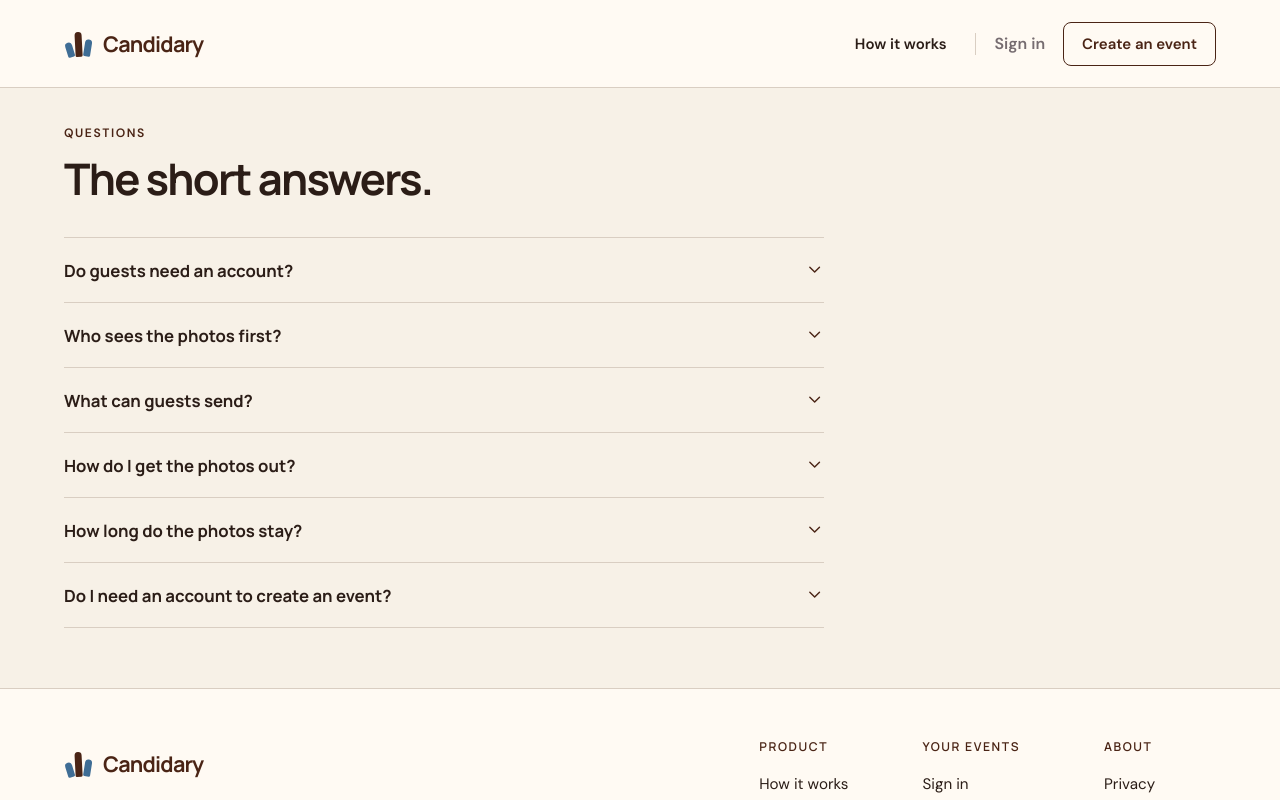
public Candidary experience › answers the common questions without opening any of them first
(page scrolled)
Click the heading "What can guests send?" at (158, 400), box [64,389,824,412]
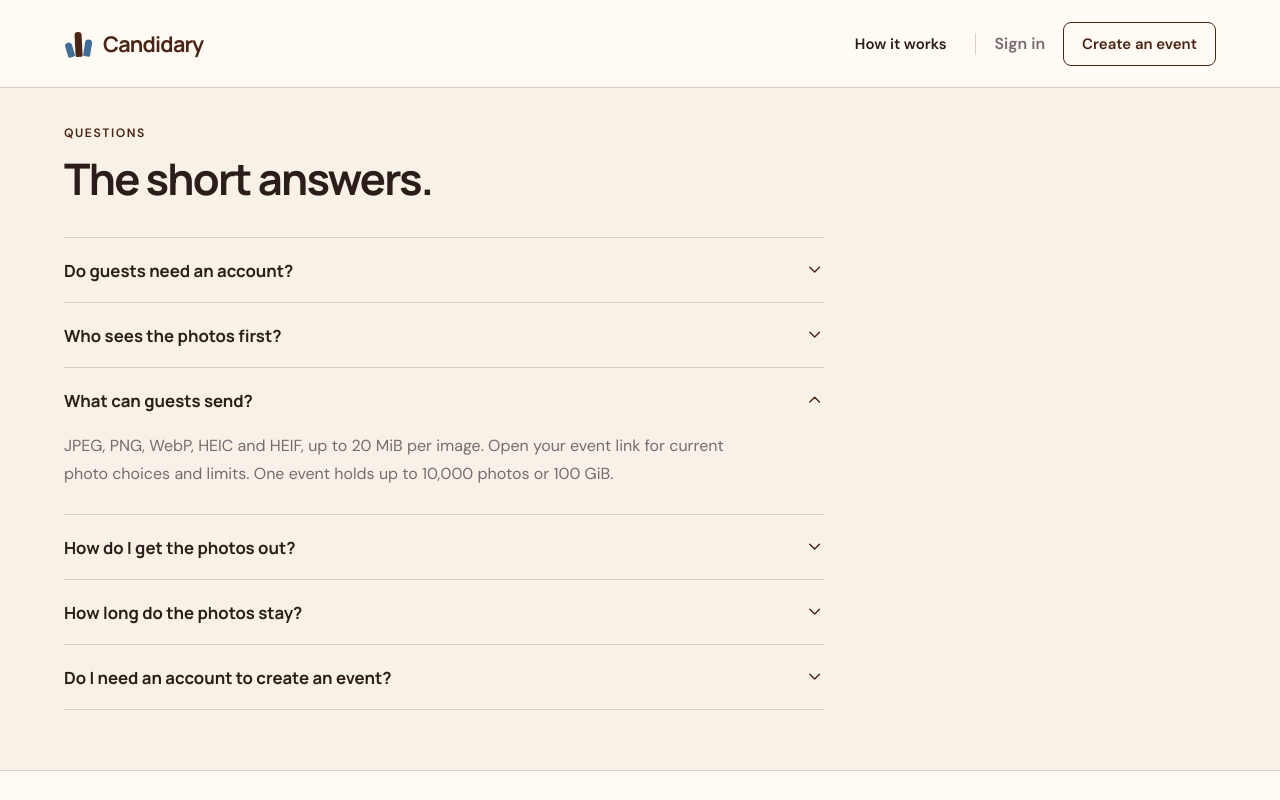
Now the text "up to 20 MiB per image" is shown, box [64,435,724,484]
